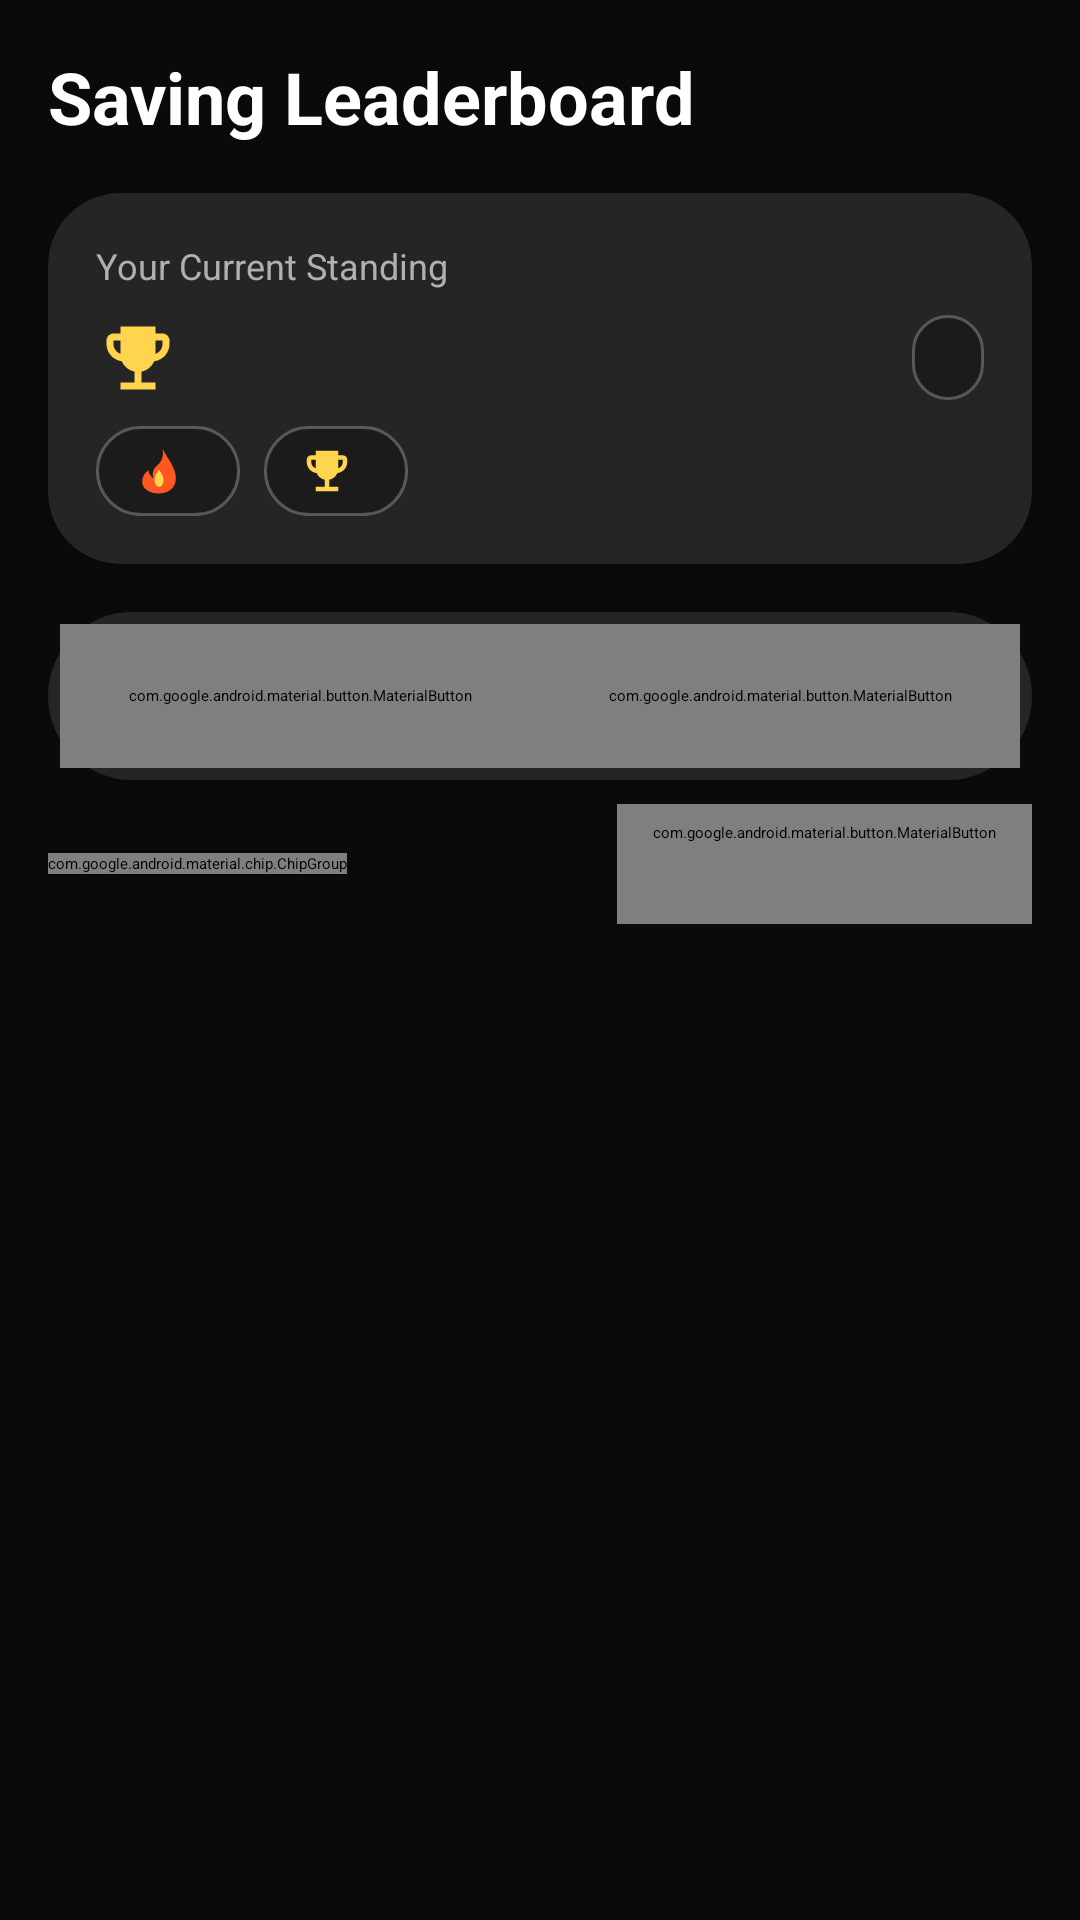

Named icons in this screenshot (1080 x 1920) and their bounding boxes, (x1, y1, x2, y2):
fire streak: (142, 449, 176, 494)
trophy: (106, 326, 170, 390), (306, 450, 348, 492)
